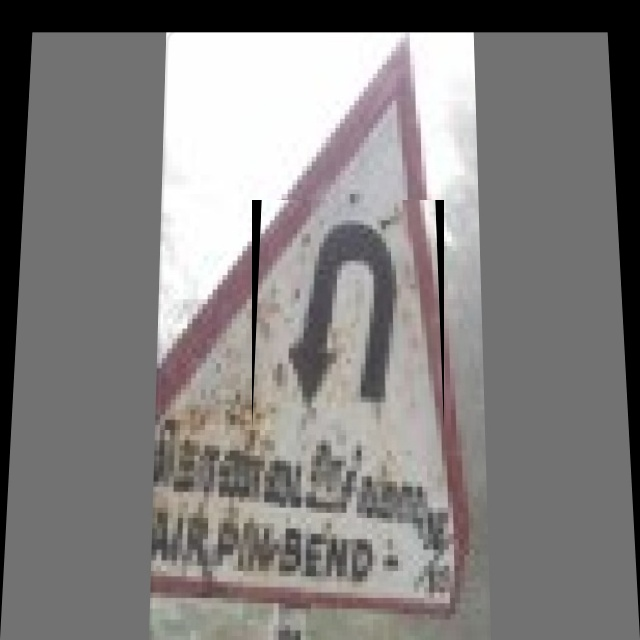Left_Hair_Pin_Bend: (252, 200, 444, 430)
